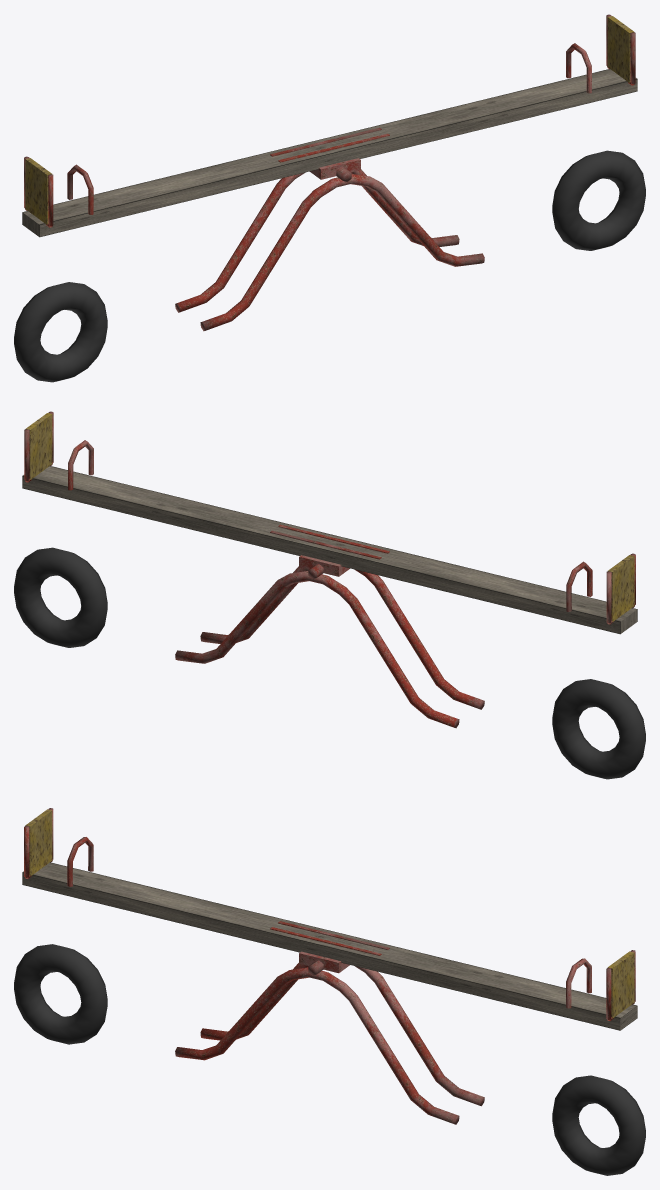
The model's file is playground_seesaw_lod2_web.glb.
3 renders of one model, top to bottom at view 1: azimuth 30°, elevation 25°; view 2: azimuth 150°, elevation 25°; view 3: azimuth 330°, elevation 25°, orthographic.
Parts seen in each view (by area): view 1: Seesaw_BeamMesh, Seesaw_Base; view 2: Seesaw_BeamMesh, Seesaw_Base; view 3: Seesaw_BeamMesh, Seesaw_Base.
Boxes of the visible parts, bbox=[...] form: Seesaw_BeamMesh: bbox=[22, 14, 637, 237]; Seesaw_Base: bbox=[14, 150, 645, 382]; Seesaw_BeamMesh: bbox=[22, 411, 637, 634]; Seesaw_Base: bbox=[14, 547, 645, 779]; Seesaw_BeamMesh: bbox=[22, 808, 637, 1030]; Seesaw_Base: bbox=[14, 944, 645, 1175].
Size of the model in its own units: 3.17 by 1.05 by 0.2999.
Materials: 4 (3 with a texture image).
